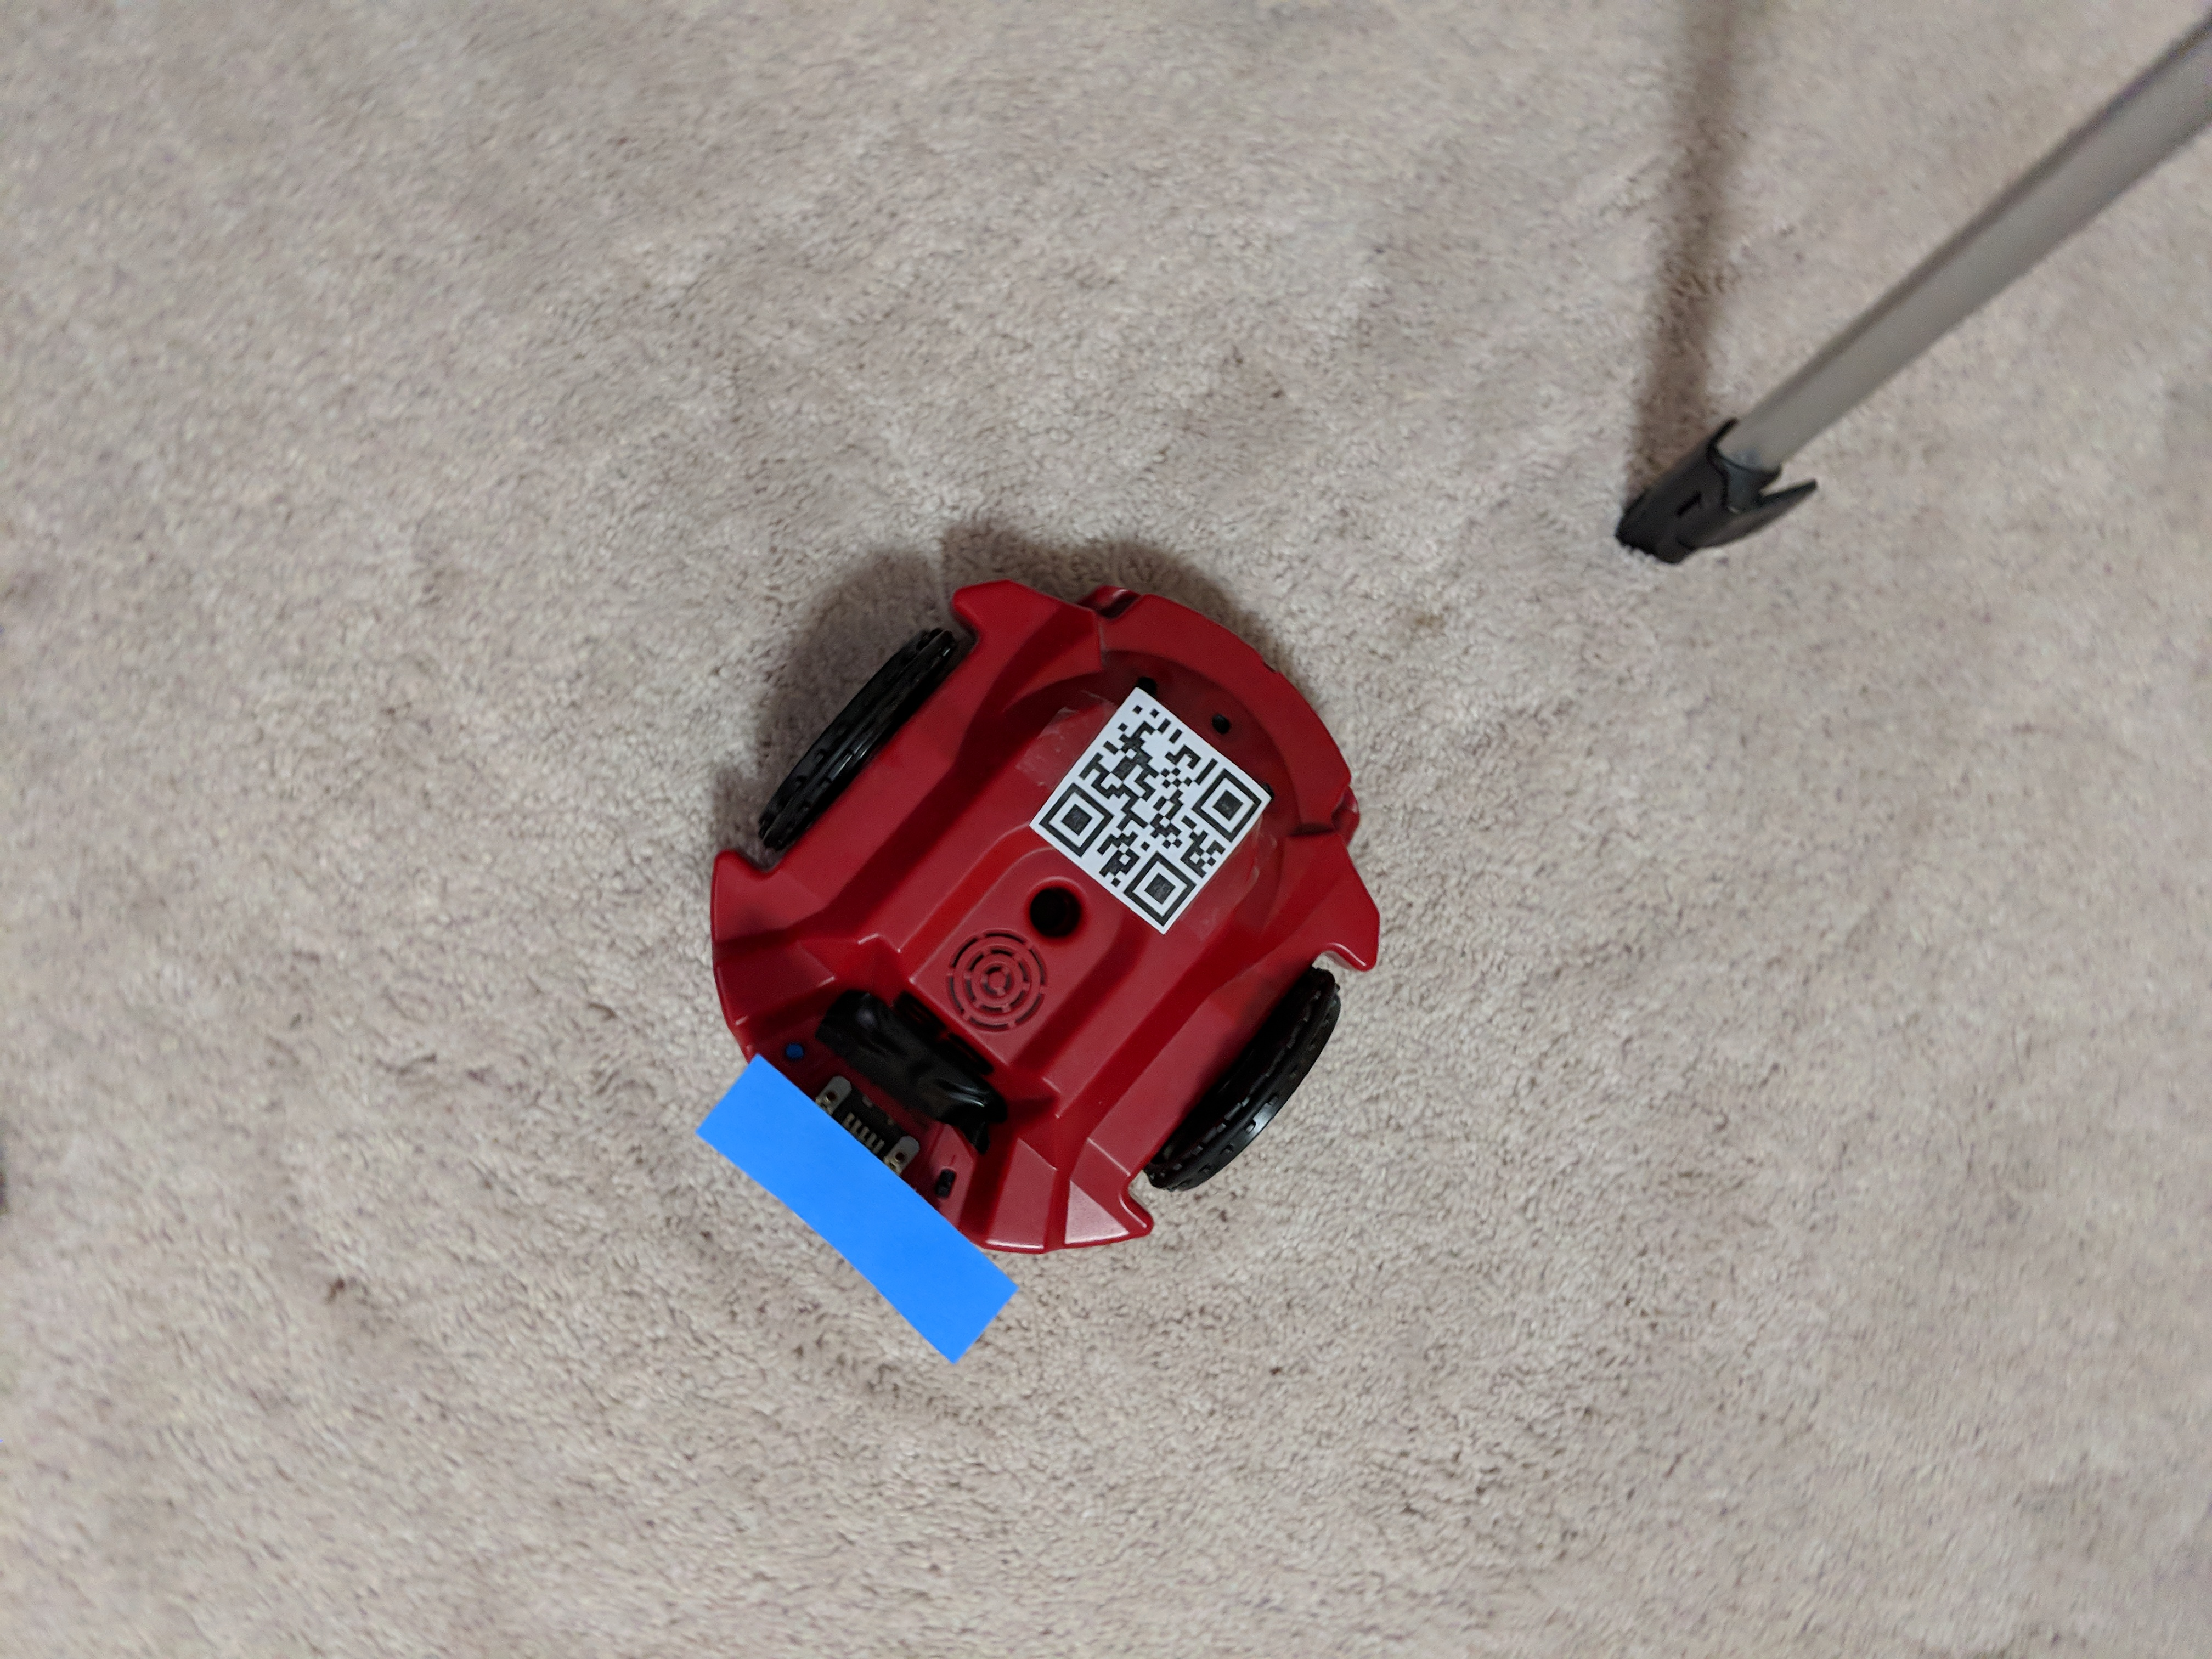chassis: (672, 566, 1397, 1371)
qr: (1036, 676, 1277, 958)
